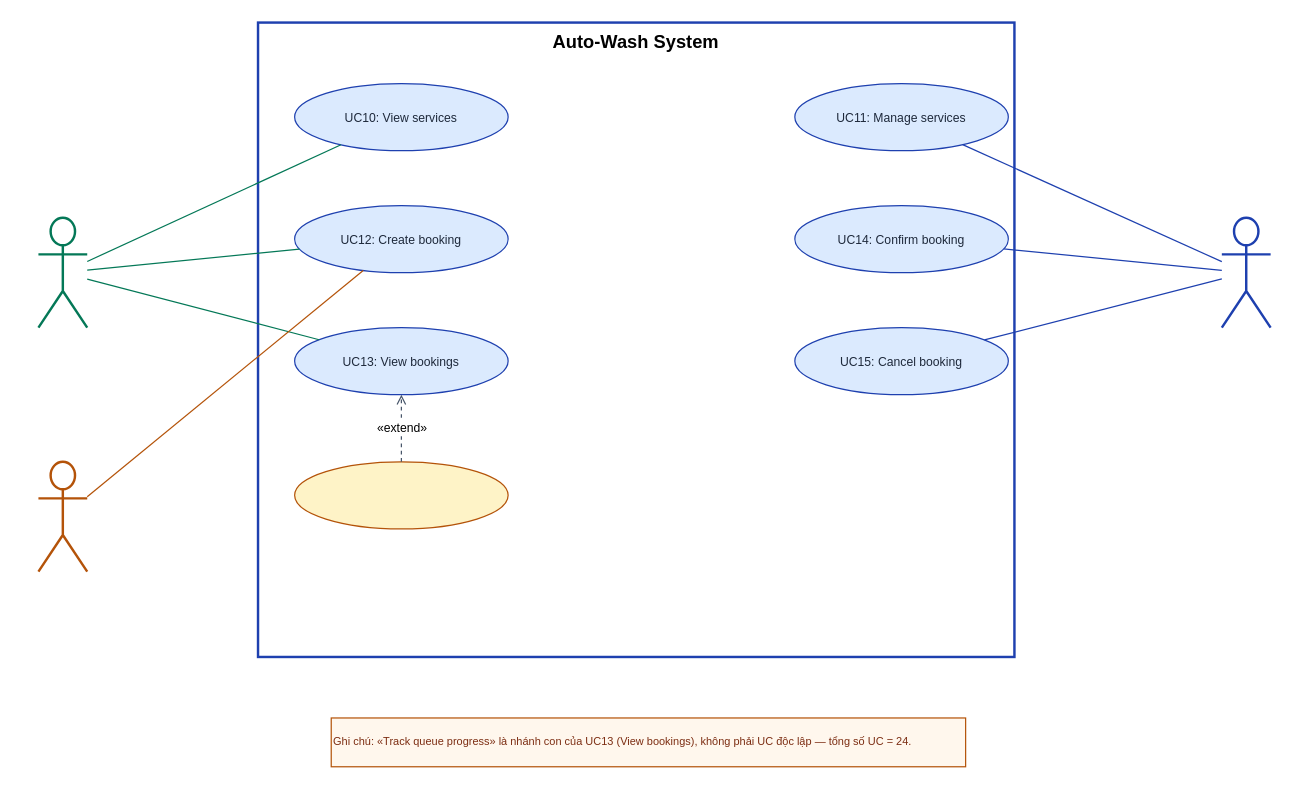
Image size: 1293x788. Some labels were removed from this diagram. The shapes that lost their labels are listed below. From the top down, each one's centre as x and y in pixels, then its label:
At point (62, 272): "Customer".
At point (1245, 272): "Staff".
At point (400, 495): "Track queue progress".
At point (62, 516): "Email SMTP".
